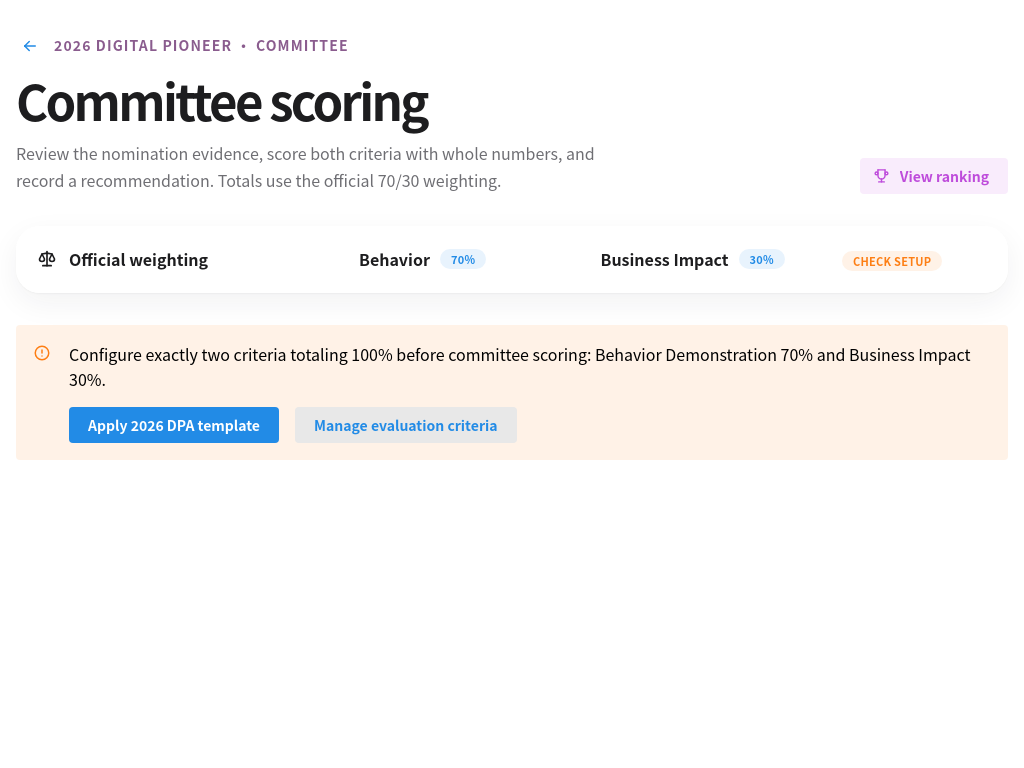
Test: repairs an unscored invalid rubric from the blocked scoring screen
Click the button "Apply 2026 DPA template" at (174, 425), box [69, 407, 279, 443]
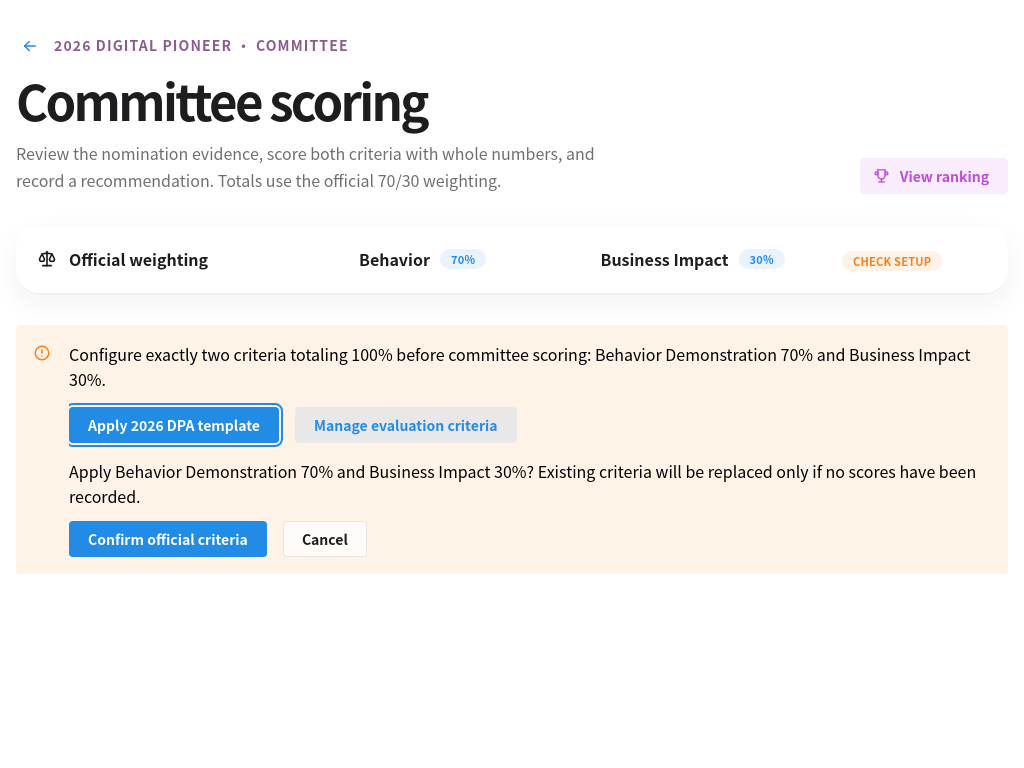
Click the button "Confirm official criteria" at (168, 539), box [69, 521, 267, 557]
(page scrolled)
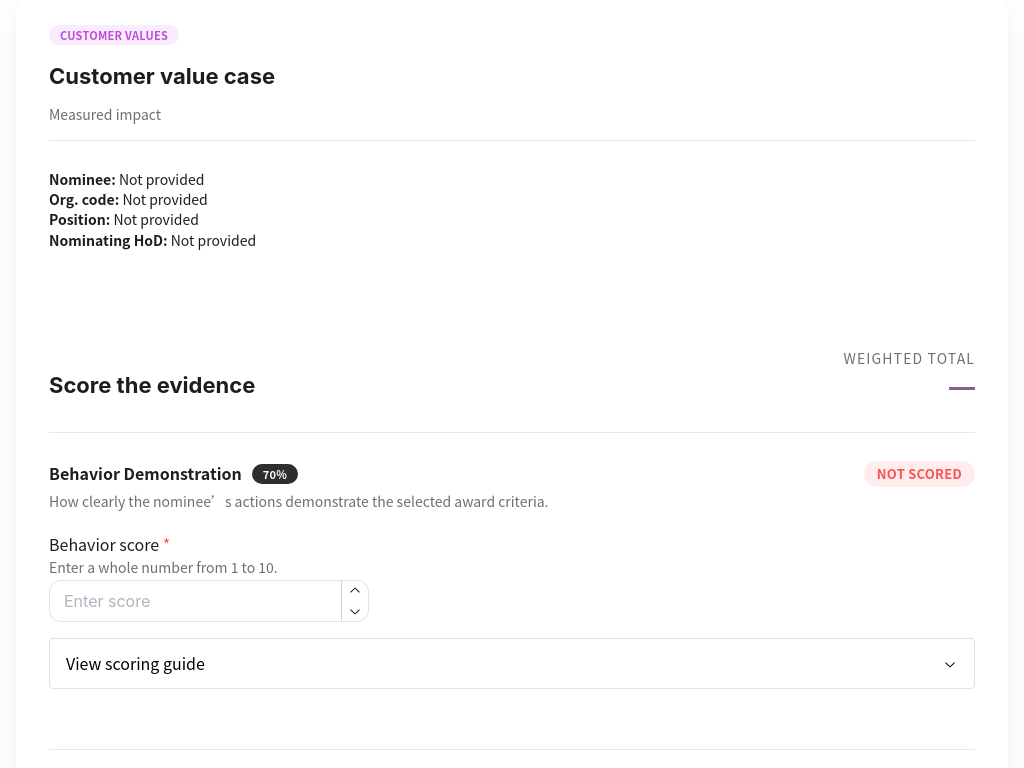
Expected: the heading "Score the evidence" is shown, [49, 370, 255, 400]
Expected: the text "Check setup" is gone
